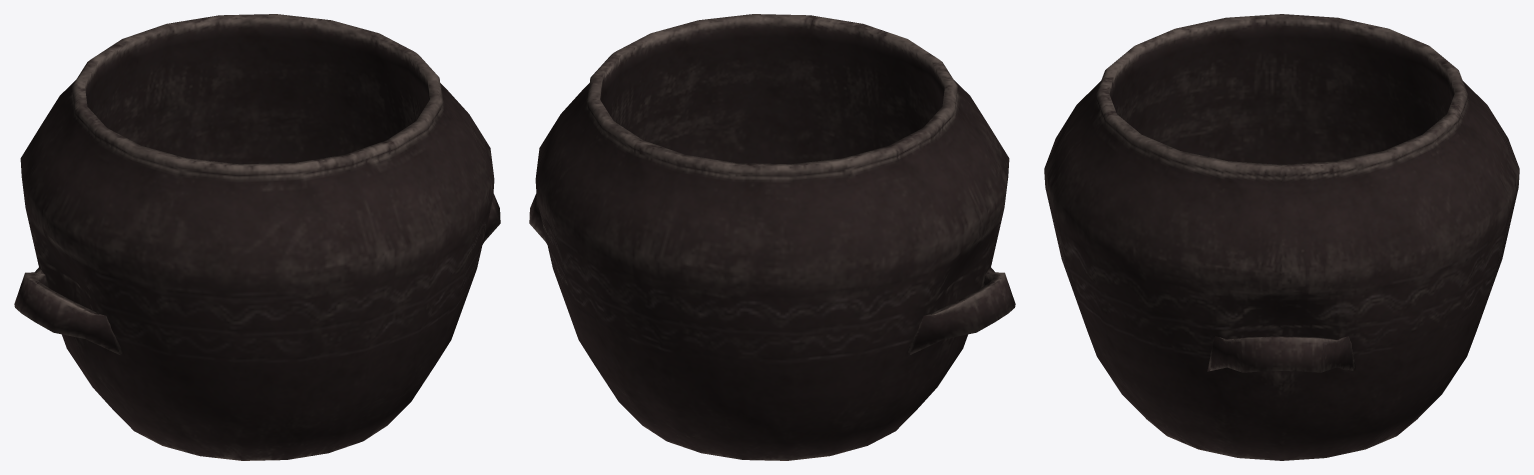
File: water_jar.glb
3 views of the same model, side by side, from view 1: azimuth 30°, elevation 25°; view 2: azimuth 150°, elevation 25°; view 3: azimuth 270°, elevation 25° (orthographic).
Visible parts, largest first — view 1: SM_Water_Jar; view 2: SM_Water_Jar; view 3: SM_Water_Jar.
Part boxes in pixels (box(x1,y1,x2,y2)): SM_Water_Jar: box(14, 14, 500, 460); SM_Water_Jar: box(529, 14, 1015, 460); SM_Water_Jar: box(1044, 14, 1519, 460).
Bounding box in the file's own units: 0.4129 × 0.2596 × 0.3609.
1 material, 1 textured.
